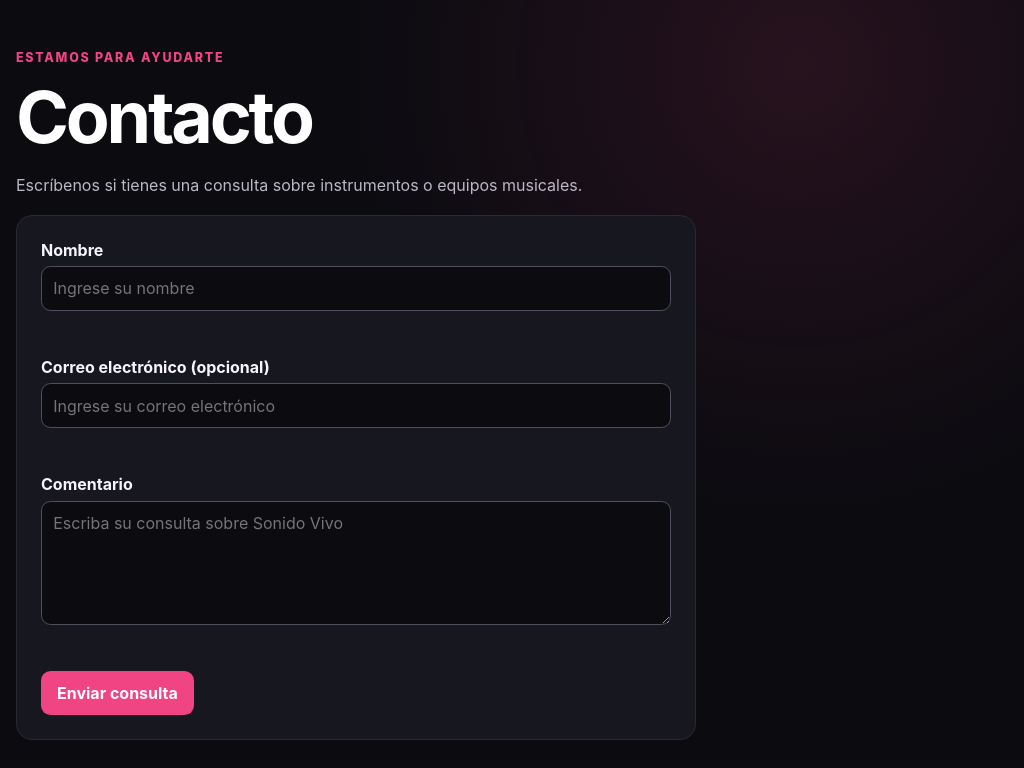
Test: ContactoPage › muestra el error y no procesa el envío si el nombre está vacío
Click the button "Enviar consulta" at (117, 693), box [41, 671, 194, 715]
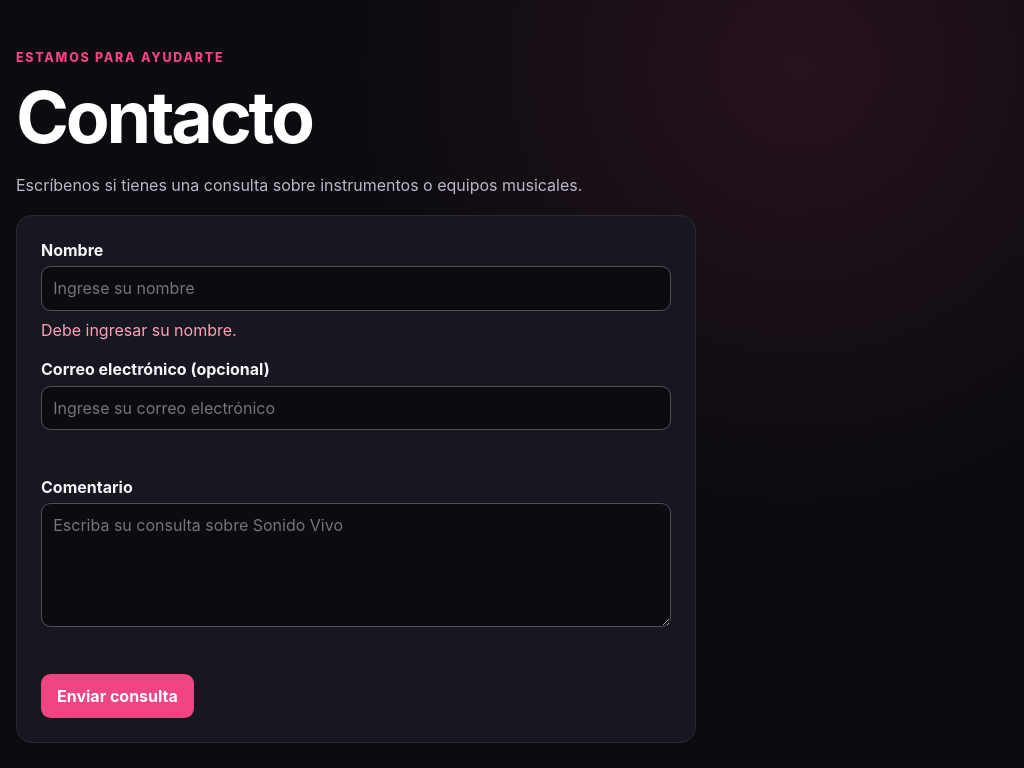
expect the text "Debe ingresar su nombre." is shown: met, box [41, 320, 237, 340]
